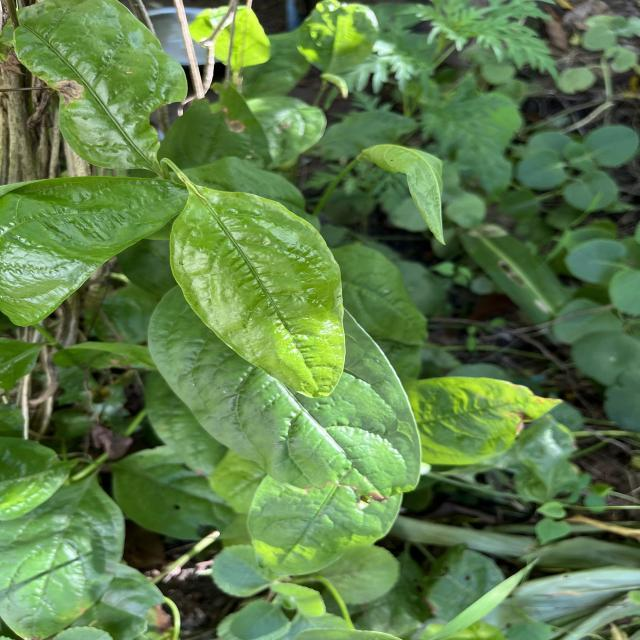Plumbago indica: (166, 184, 350, 407), (11, 0, 199, 176), (0, 174, 186, 328), (0, 475, 130, 640), (246, 458, 402, 590)
